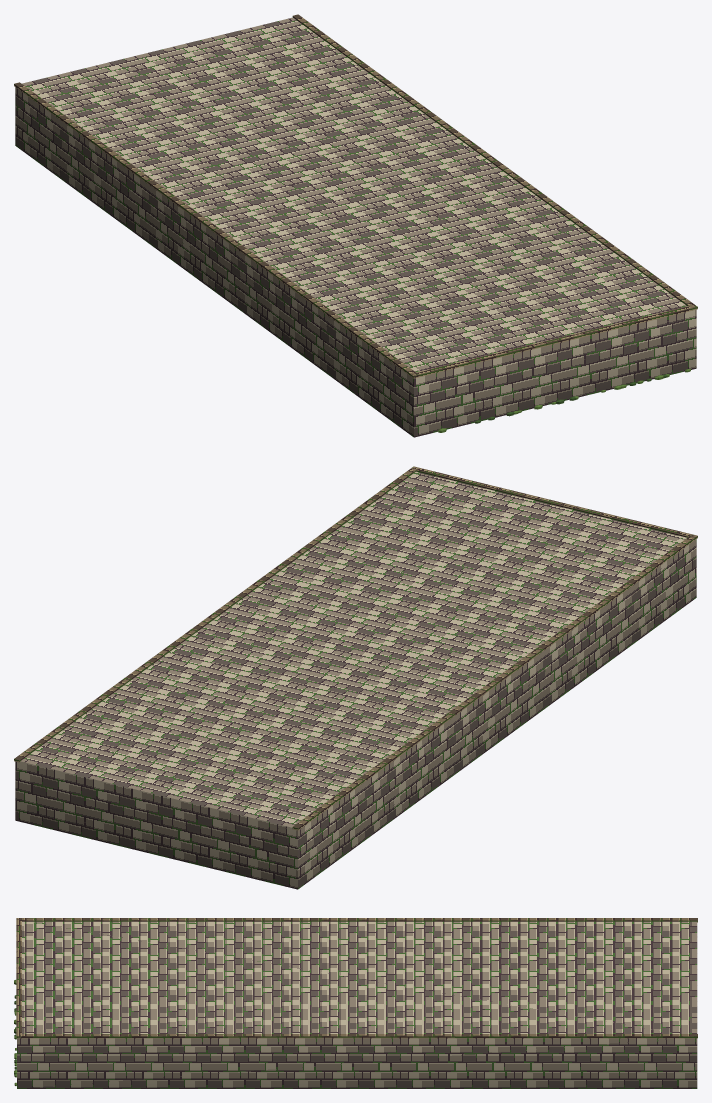
The model's file is scene_wall_e.glb.
3 views of the same model, one above another, from view 1: azimuth 30°, elevation 25°; view 2: azimuth 150°, elevation 25°; view 3: azimuth 270°, elevation 25° (orthographic). The views are drawn at different scales.
Parts seen in each view (by area): view 1: scene_wall_e; view 2: scene_wall_e; view 3: scene_wall_e.
Boxes of the visible parts, <box> form: scene_wall_e: <box>14,14,697,437</box>; scene_wall_e: <box>14,466,697,889</box>; scene_wall_e: <box>14,918,697,1088</box>.
Size of the model in its own units: 17.7 by 3.77 by 43.24.
2 materials, 1 textured.
